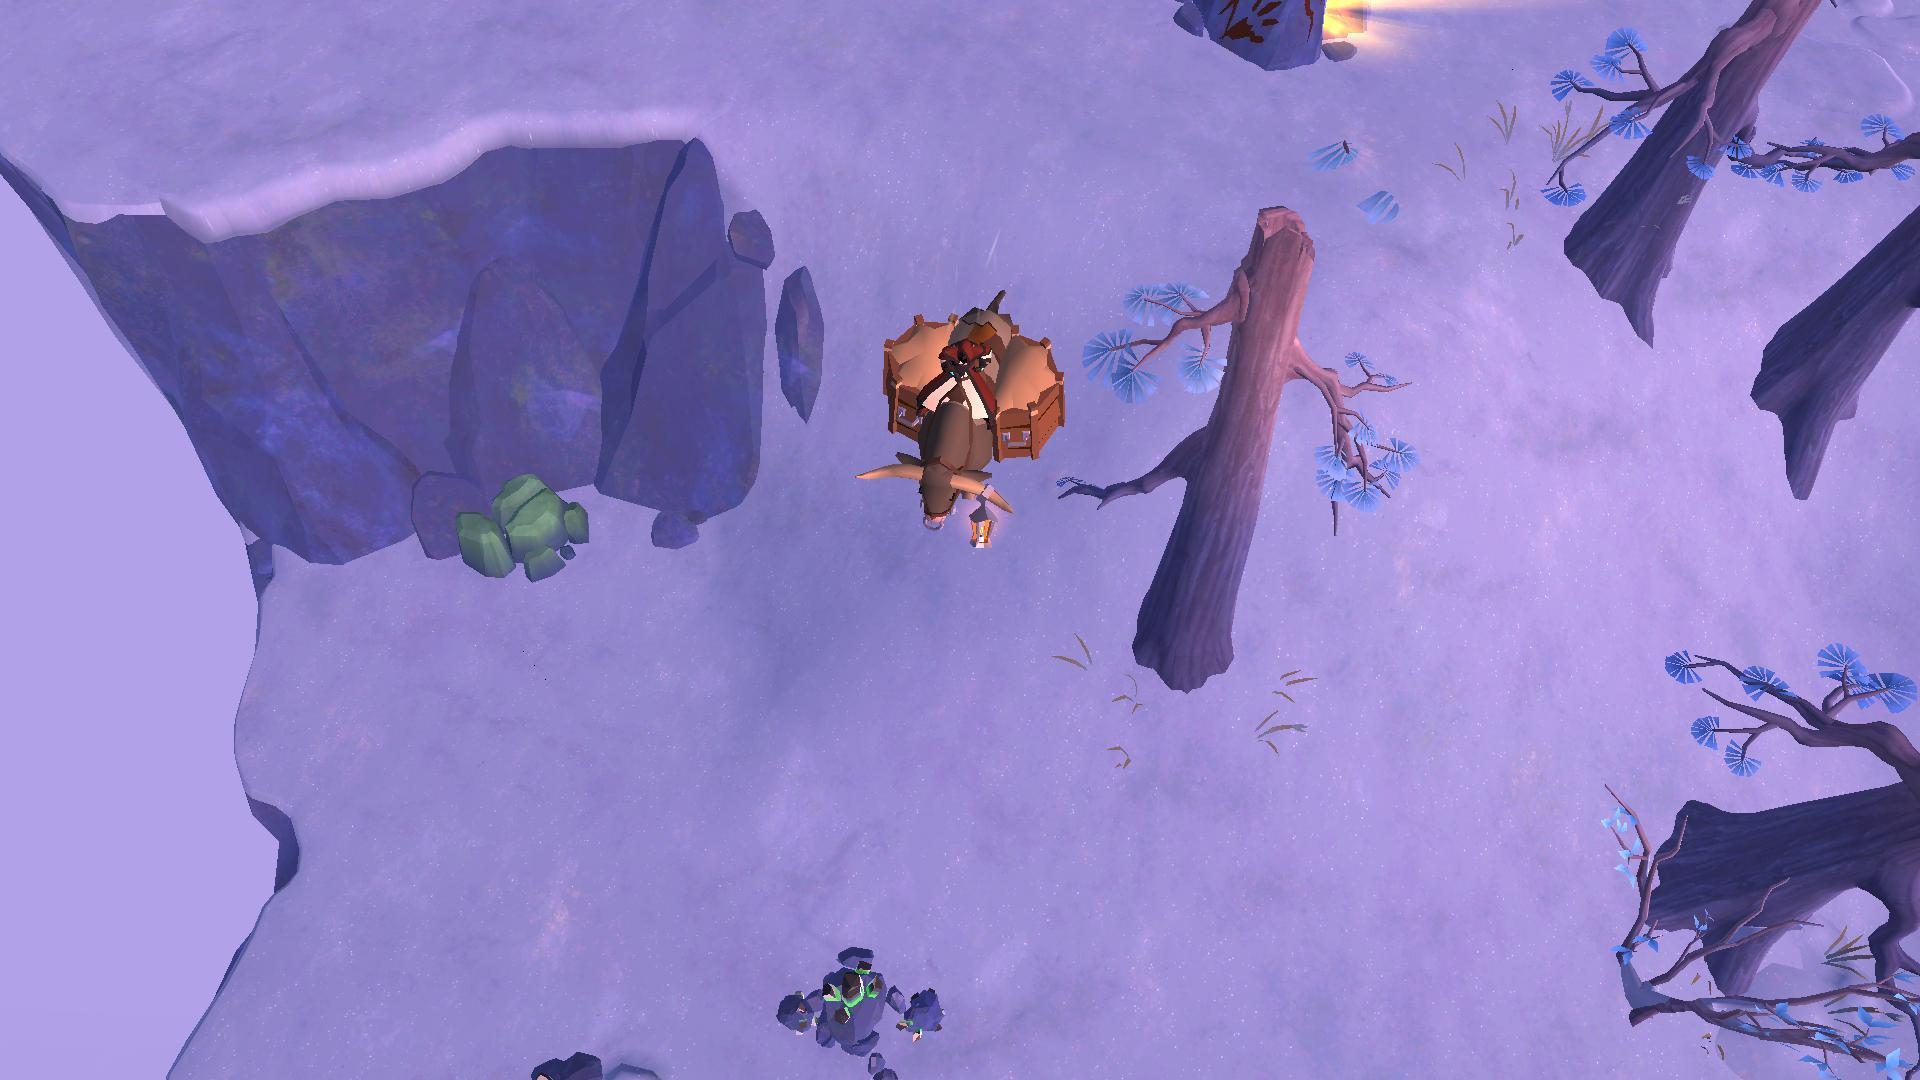rock_t3: (442, 469, 599, 587)
